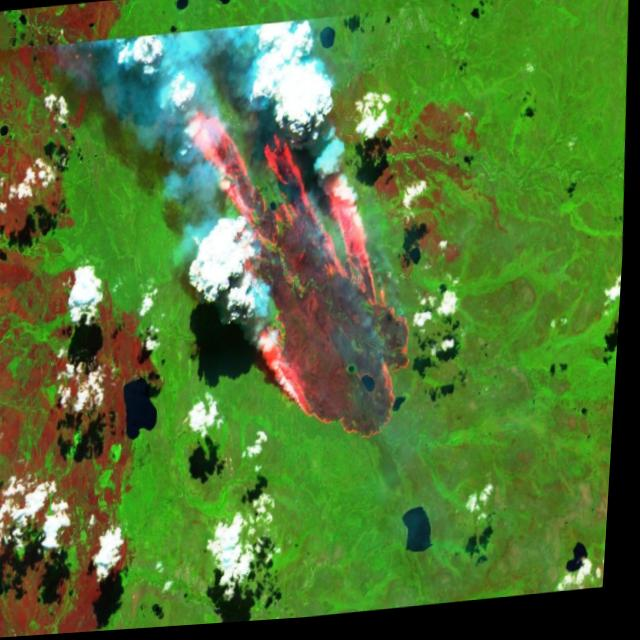fire: (159, 83, 434, 470)
